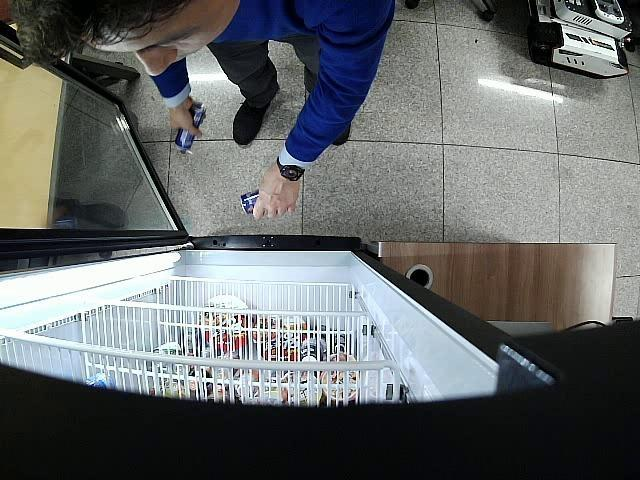16_hot6: (174, 103, 207, 150), (241, 190, 259, 214)
